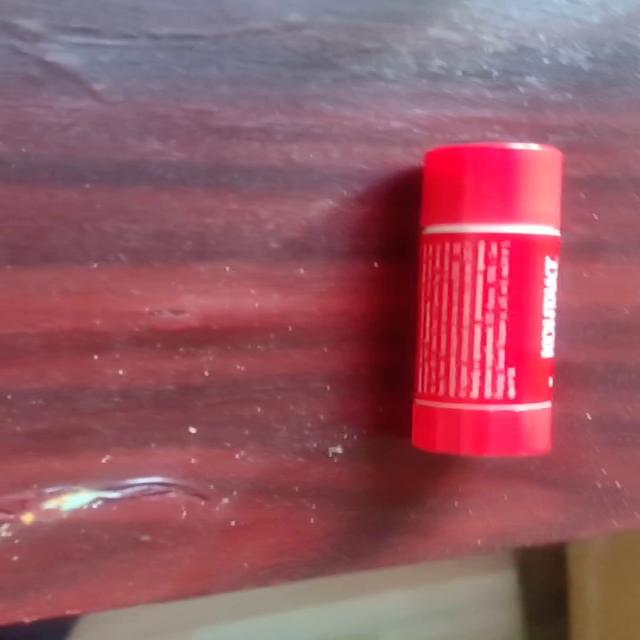glue: (409, 141, 564, 457)
